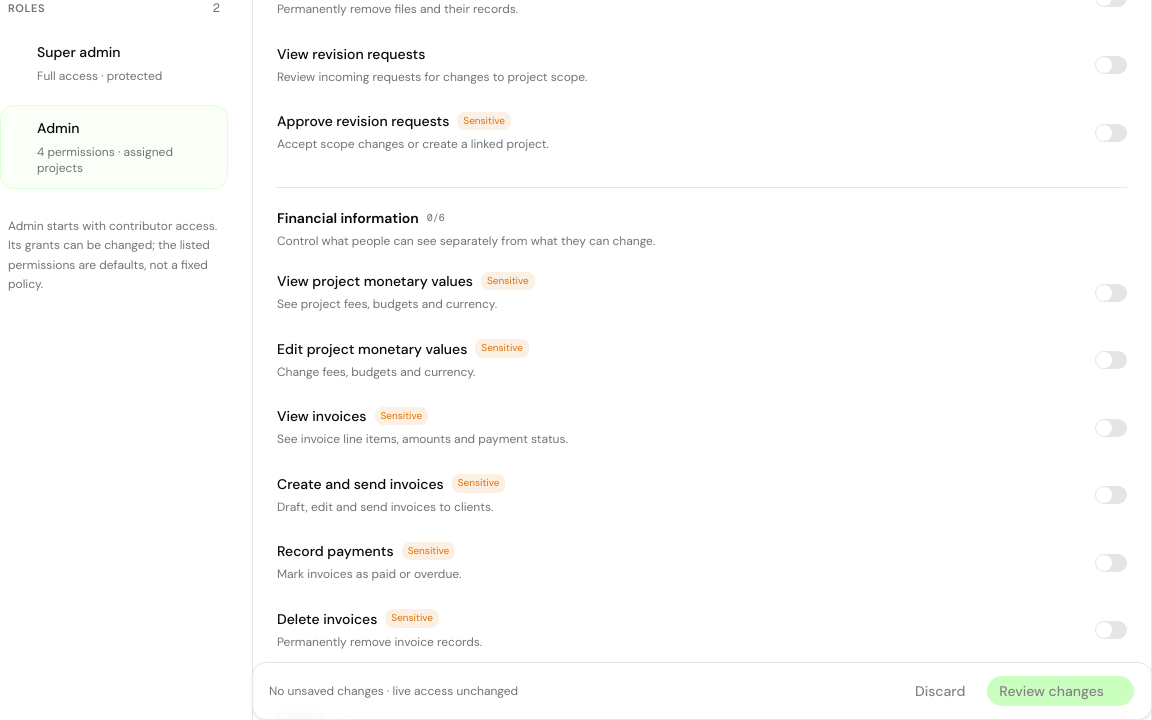
Test: role design drafts › reviews and saves a monetary permission draft without changing live policy
The image size is (1152, 720).
(page scrolled)
Expected: the switch named "View project monetary values" is not checked, [1095, 284, 1127, 302]
Click the switch named "Edit project monetary values". click: (1111, 360)
box: [1095, 351, 1127, 369]
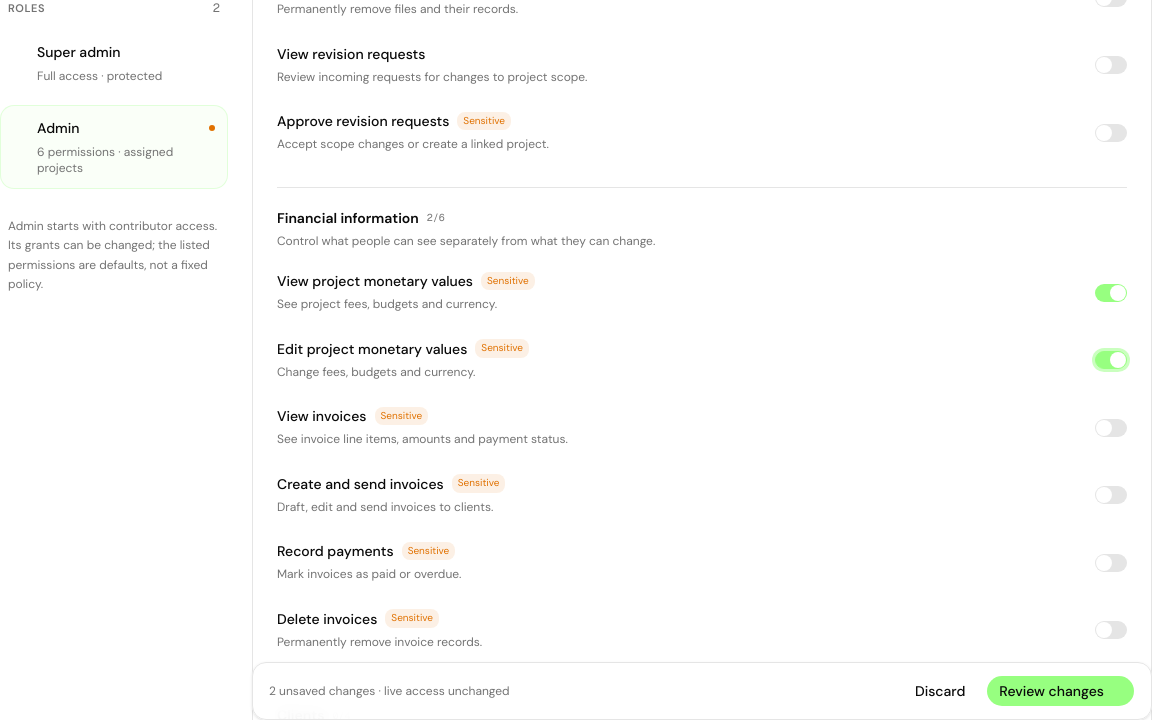
Expected: the switch named "View project monetary values" is checked, [1095, 284, 1127, 302]
Click the button "Review changes". click: (1061, 691)
box: [986, 675, 1135, 707]
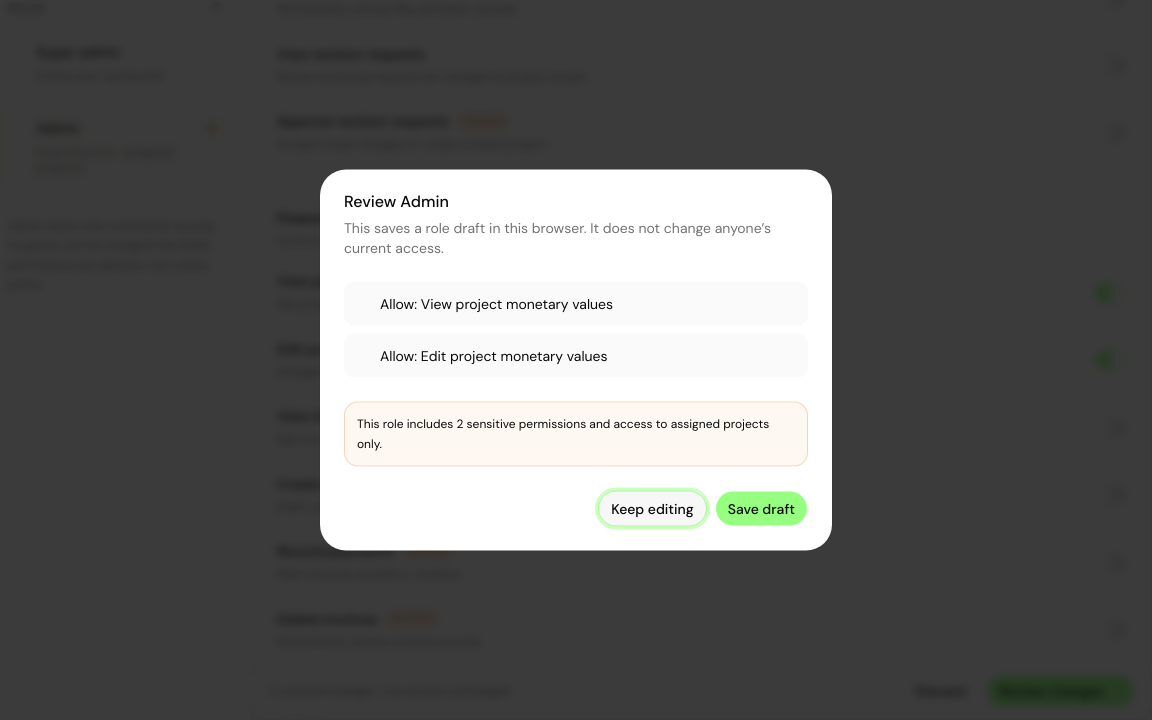
Expected: the text "Allow: View project monetary values" is shown, [344, 282, 808, 326]
Expected: the text "Allow: Edit project monetary values" is shown, [344, 334, 808, 378]
Click the button "Save draft". click: (761, 508)
box: [715, 490, 808, 526]
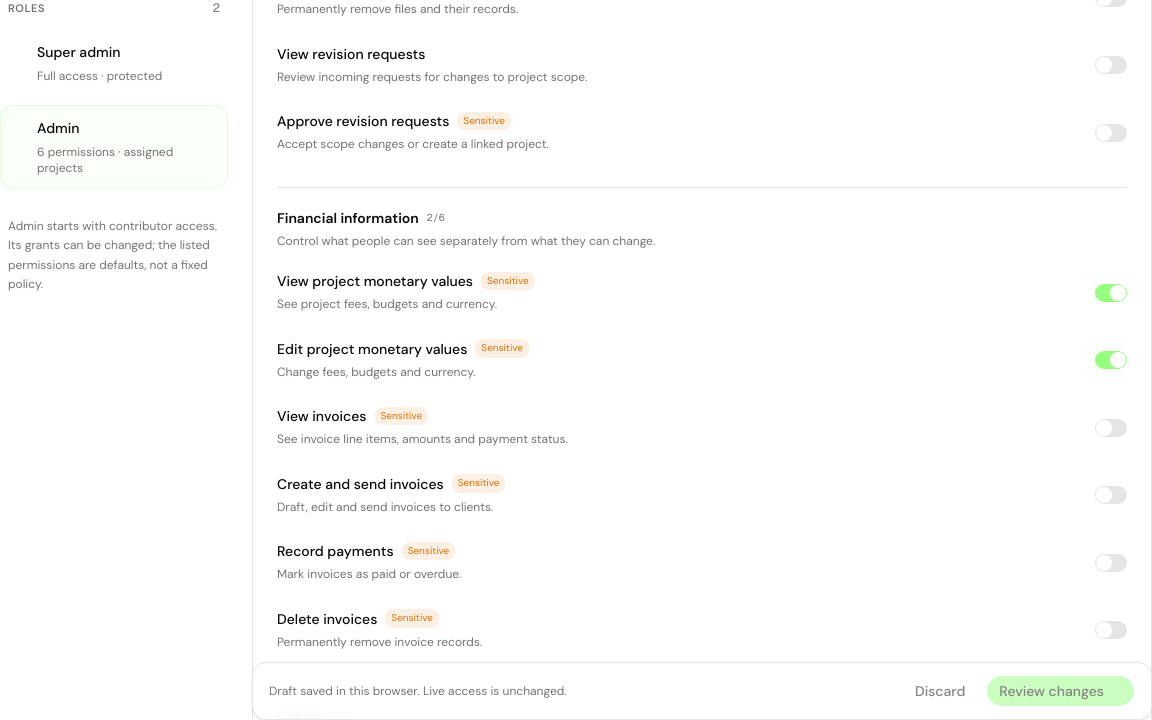
Expected: the message shows "Draft saved in this browser", [269, 683, 567, 699]
